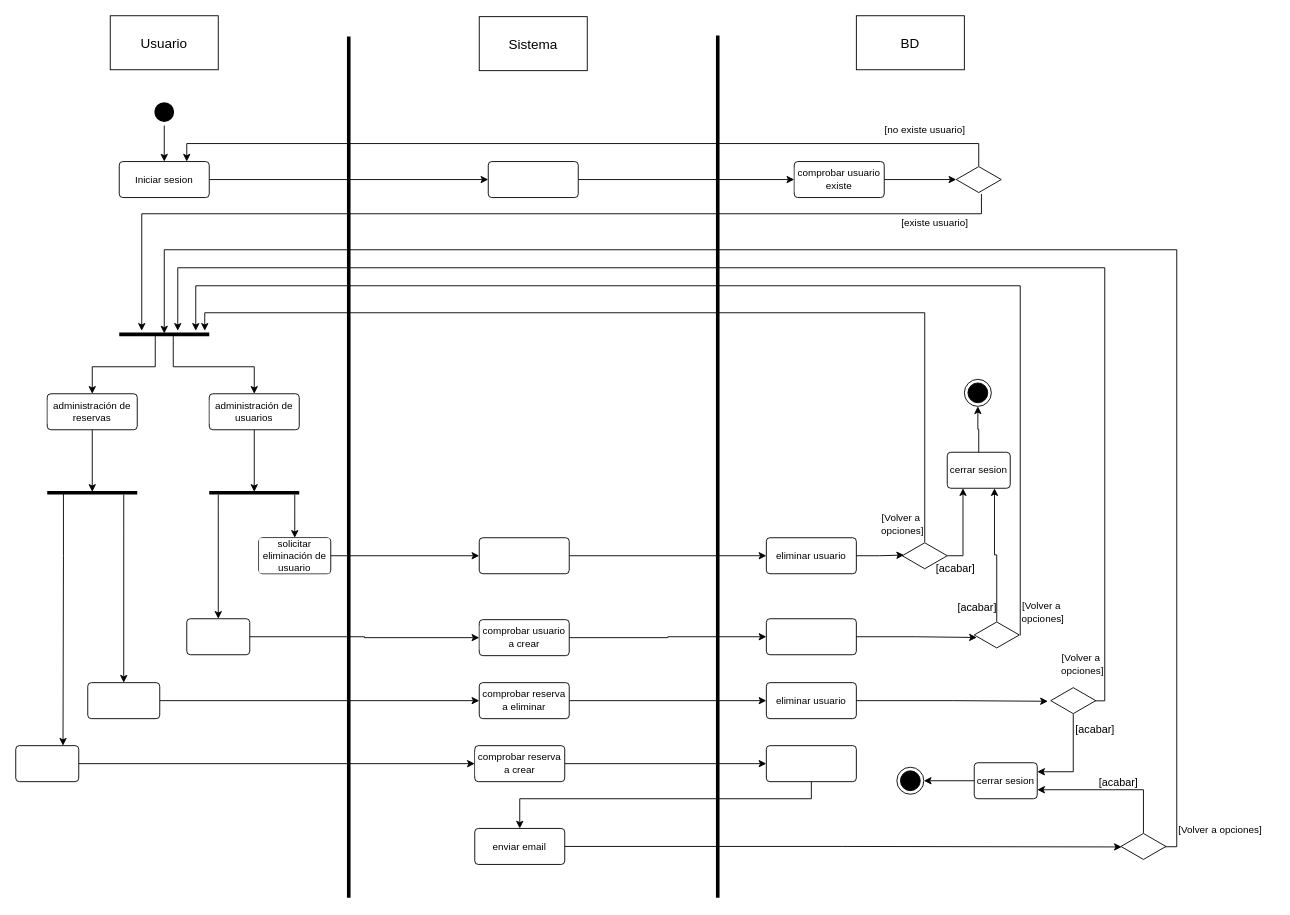
Some shapes in this 1290 by 915 pixel diagram are drawn without their labels. The shapes that lost their labels are listed below. From the top down, each one's centre as x and y in pixels, then its label:
point 532,179: comprobar usuario iniciado
point 523,555: comprobar usuario a eliminar
point 218,636: solicitar usuario
point 810,636: añadir usuario
point 123,700: solicitar eliminación de reserva
point 47,763: solicitar reserva
point 810,763: añadir reserva
